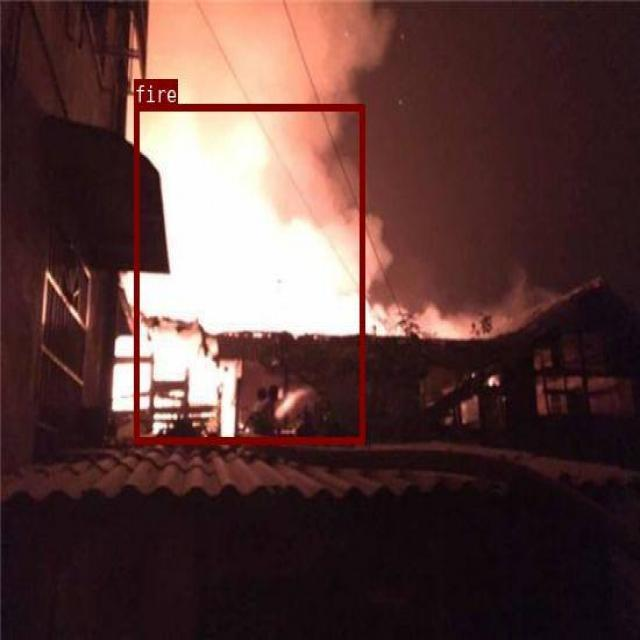fire: (133, 102, 363, 443)
